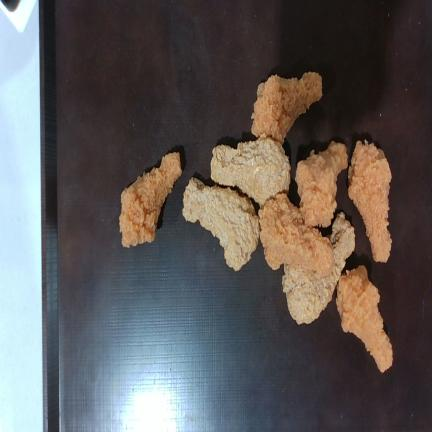chicken: (282, 212, 355, 324), (183, 178, 259, 271), (259, 193, 334, 276), (336, 265, 393, 372), (119, 152, 181, 247), (211, 136, 290, 206), (348, 140, 392, 262), (251, 72, 322, 143), (295, 141, 348, 227)
